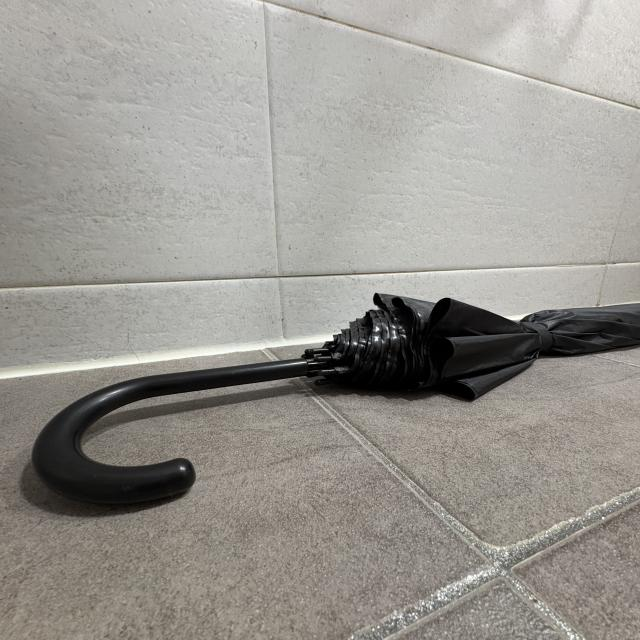umbrella: (38, 292, 640, 512)
